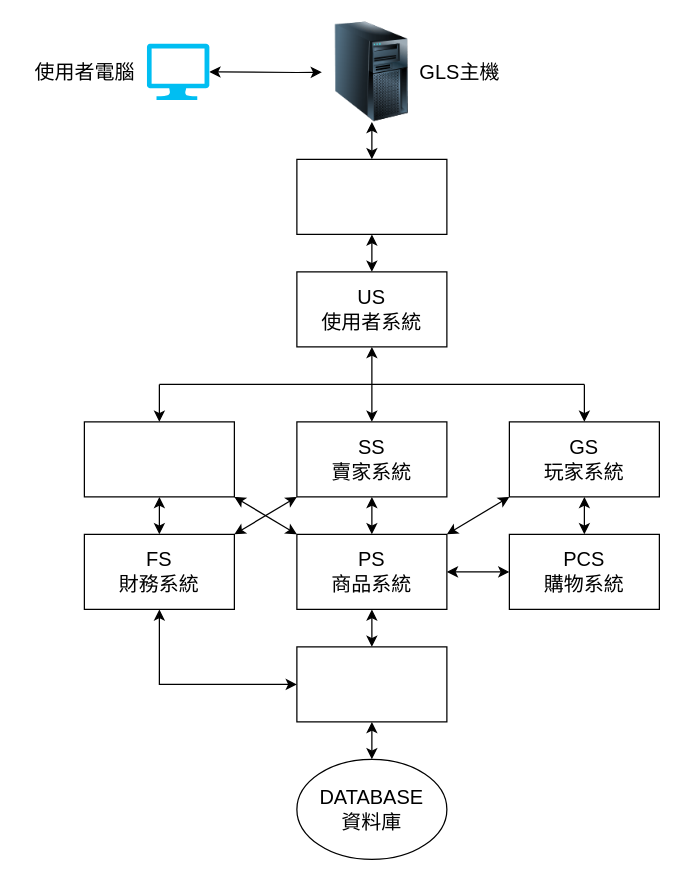
Some shapes in this 681 by 881 pixel diagram are drawn without their labels. Here are the shapes that lost their labels. From the top down, the box of each, then its label:
(296, 158, 447, 234): WS 網頁系統
(83, 421, 234, 497): MS 管理員系統
(296, 646, 447, 722): DS 資料庫系統
